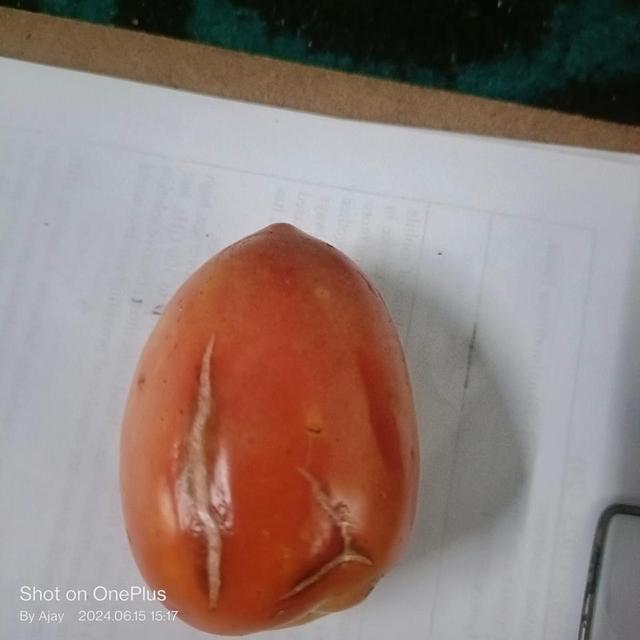Cracking Fruit: (118, 238, 250, 409)
